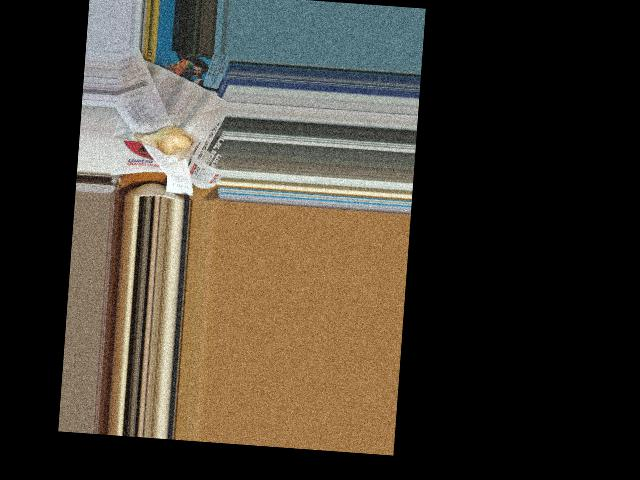onion: (139, 122, 192, 154)
